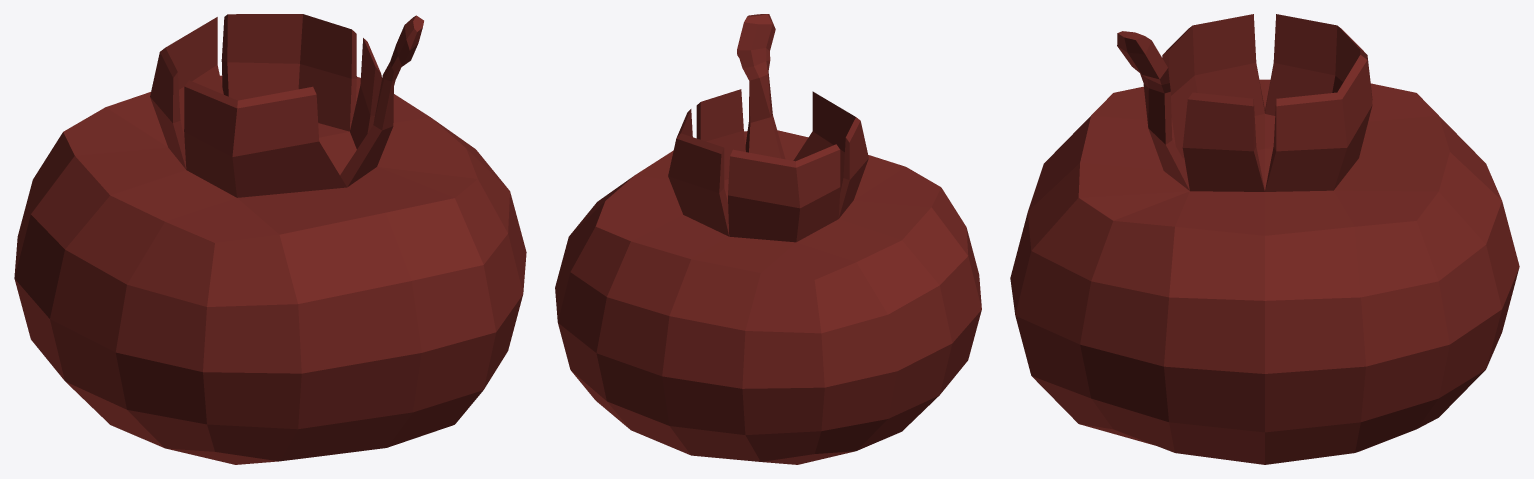
File: WholeGranate.fbx
3 views of the same model, side by side, from view 1: azimuth 30°, elevation 25°; view 2: azimuth 150°, elevation 25°; view 3: azimuth 270°, elevation 25° (orthographic). The views are drawn at different scales.
Parts seen in each view (by area): view 1: WholeGranate; view 2: WholeGranate; view 3: WholeGranate.
Part boxes in pixels (x1,y1,x2,y2): WholeGranate: [14, 14, 526, 464]; WholeGranate: [555, 14, 981, 464]; WholeGranate: [1010, 14, 1519, 464].
Bounding box in the file's own units: 154 × 147 × 155.
